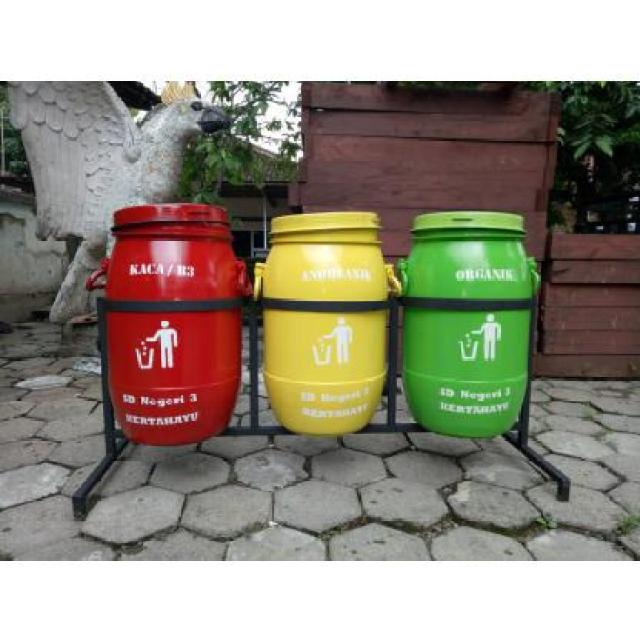garbage container: (385, 204, 547, 462), (93, 200, 252, 448), (248, 205, 398, 452)
